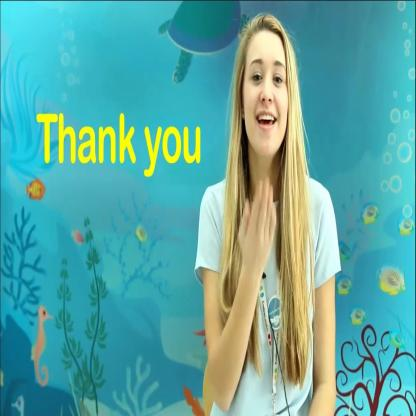ThankYou: (187, 8, 302, 414)
